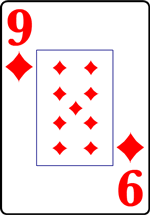nine of diamonds: (5, 5, 150, 214)
